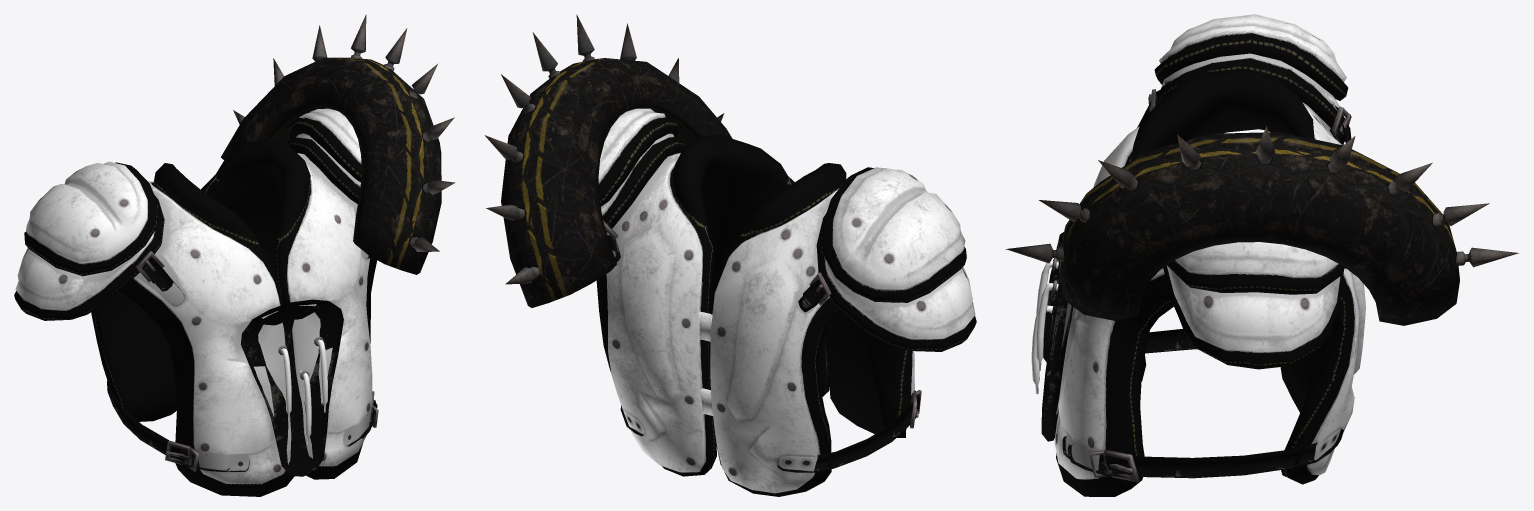
The model's file is SurvivorMale_Armor_FootballPads_Viking_LOD0.glb.
3 views of the same model, side by side, from view 1: azimuth 30°, elevation 25°; view 2: azimuth 150°, elevation 25°; view 3: azimuth 270°, elevation 25° (orthographic). The views are drawn at different scales.
Parts seen in each view (by area): view 1: Hoodie; view 2: Hoodie; view 3: Hoodie.
Part boxes in pixels (box(x1,y1,x2,y2)): Hoodie: box(14, 14, 455, 496); Hoodie: box(484, 14, 976, 496); Hoodie: box(1005, 14, 1518, 496).
Size of the model in its own units: 0.6733 by 0.5712 by 0.5908.
Materials: 1 (1 with a texture image).
